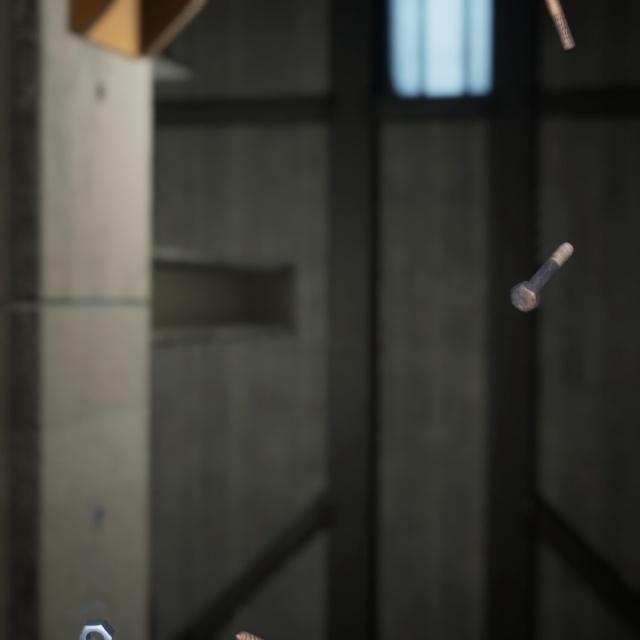bolt: (505, 221, 578, 300), (231, 601, 304, 640), (541, 0, 580, 49)
nut: (74, 590, 119, 633)
